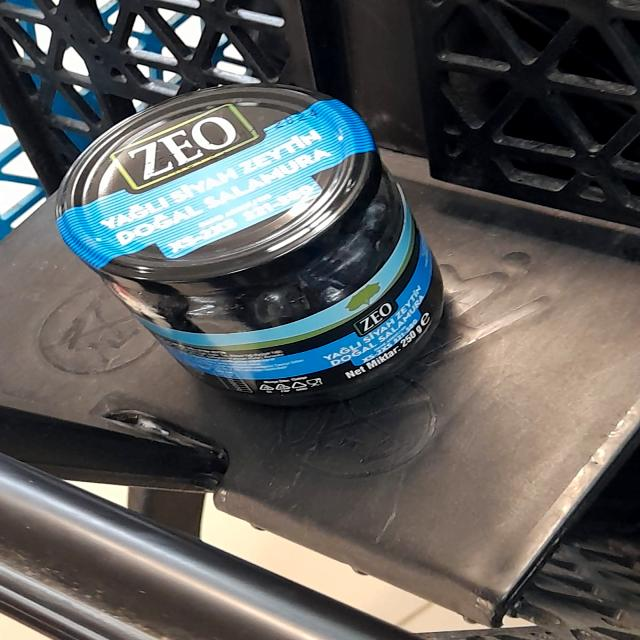olive: (57, 96, 451, 414)
